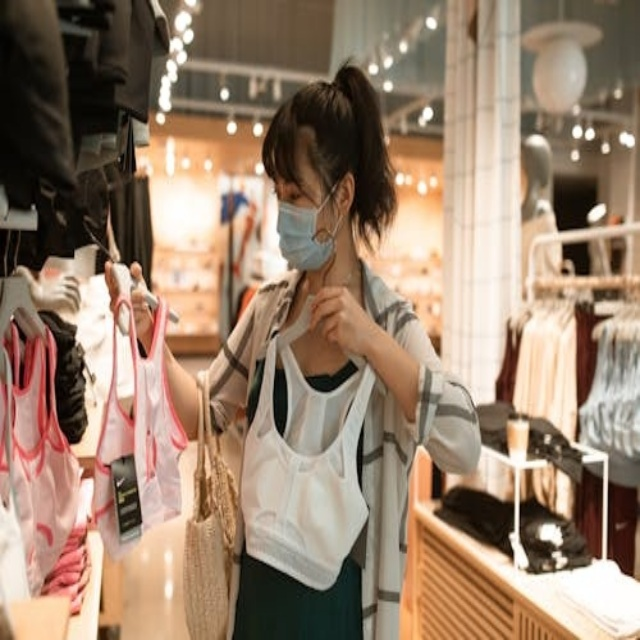Mascara: (275, 181, 344, 272)
Sin_gafas: (268, 169, 332, 209)
Sin_guantes: (307, 273, 376, 365), (104, 258, 159, 343)
